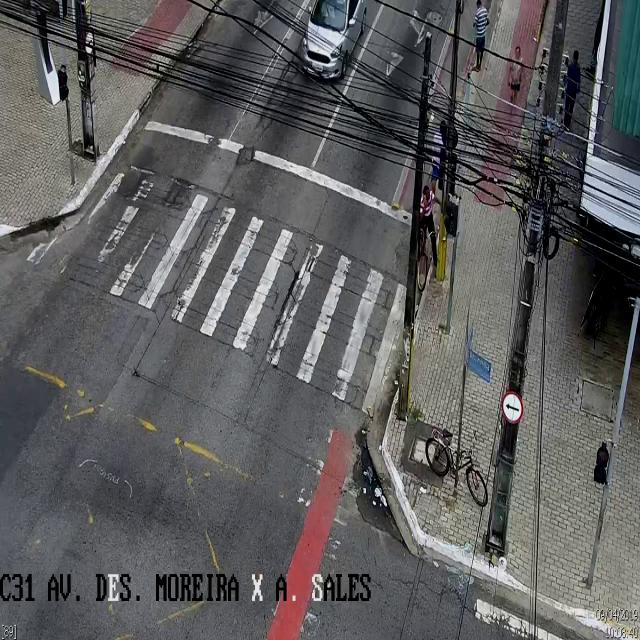Car: (300, 3, 366, 78)
